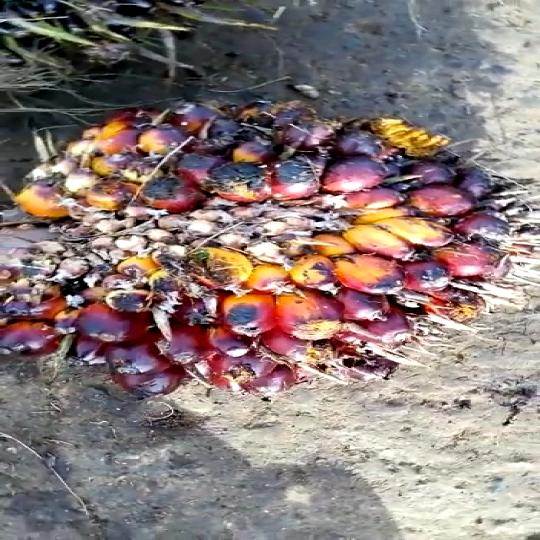masak: (0, 109, 540, 408)
